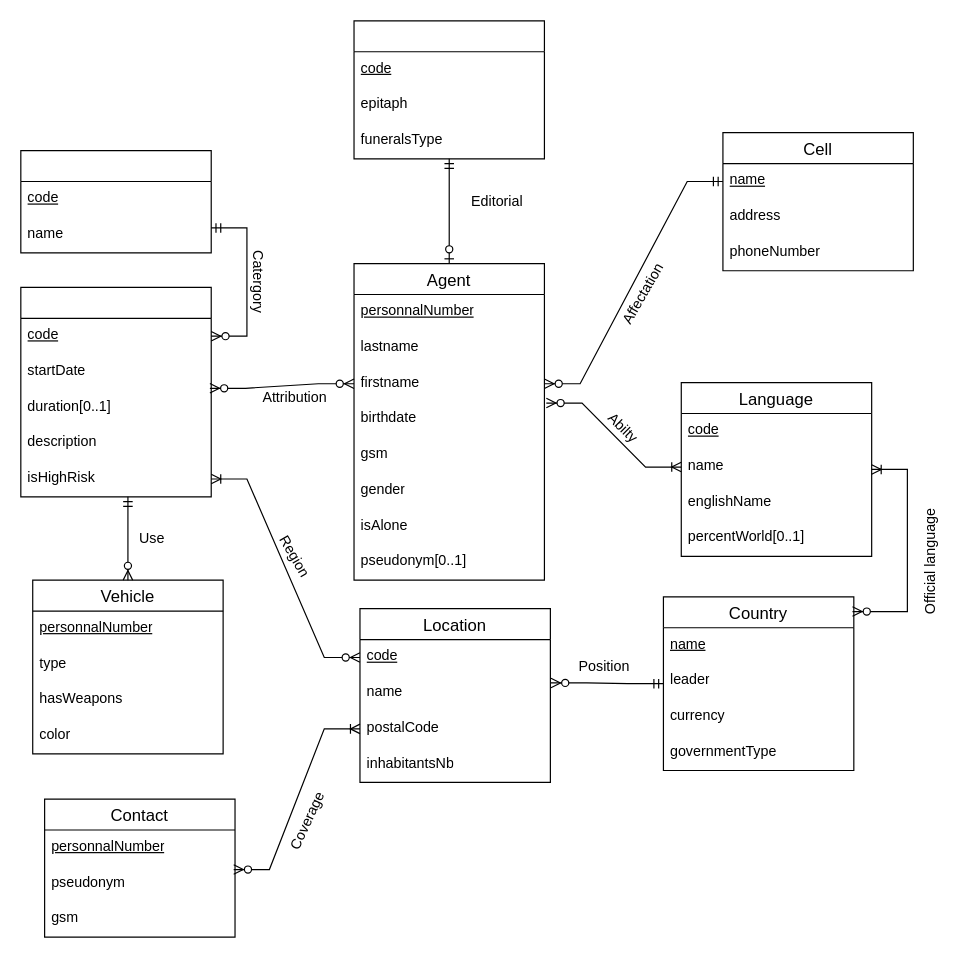
This 970x962 diagram has some shape labels left out. The shapes that lost their labels are listed below. From the top down, each one's box as (x1, y1, x2, y2) in pixels, then its label:
(353, 20, 544, 159): Will
(20, 149, 211, 253): Mission type
(20, 286, 211, 497): Mission
